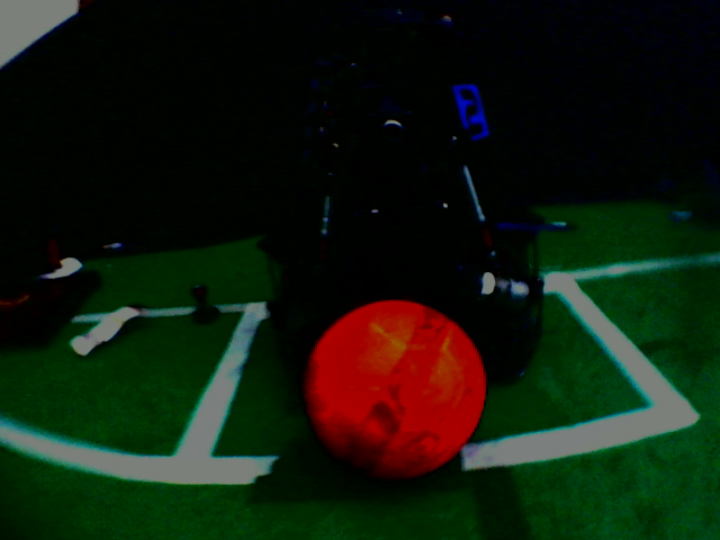bola: (292, 290, 488, 485)
